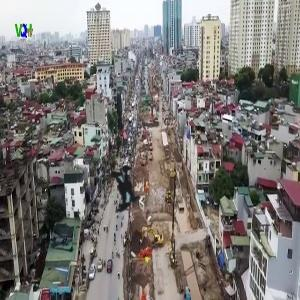drone: (59, 121, 191, 253)
